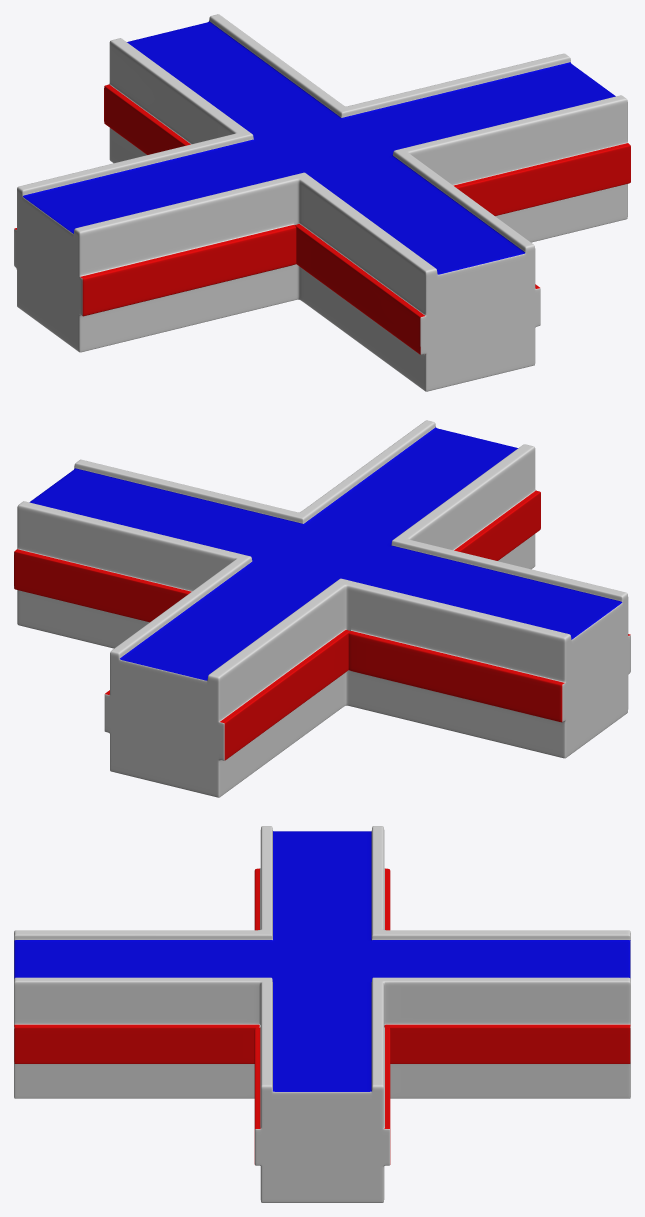
File: FontMain_LP_FBX.fbx
3 views of the same model, one above another, from view 1: azimuth 30°, elevation 25°; view 2: azimuth 150°, elevation 25°; view 3: azimuth 270°, elevation 25° (orthographic). The views are drawn at different scales.
Parts seen in each view (by area): view 1: pCube30; view 2: pCube30; view 3: pCube30.
Boxes of the visible parts, box(x1,y1,x2,y2) form: pCube30: box(14, 14, 630, 391); pCube30: box(14, 420, 630, 797); pCube30: box(14, 826, 630, 1202).
Size of the model in its own units: 500 by 105 by 500.
